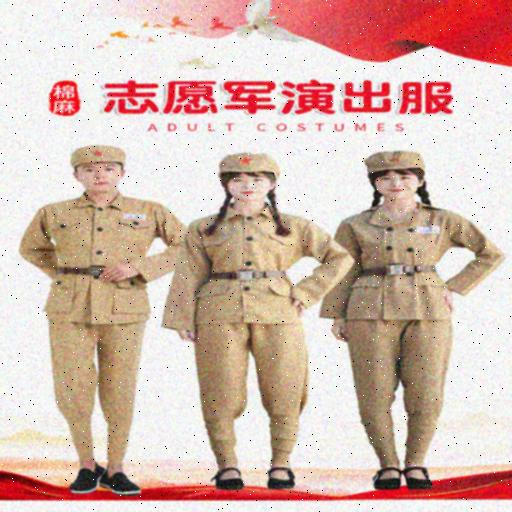north army: (306, 116, 505, 467), (20, 148, 212, 501), (170, 133, 365, 477)
